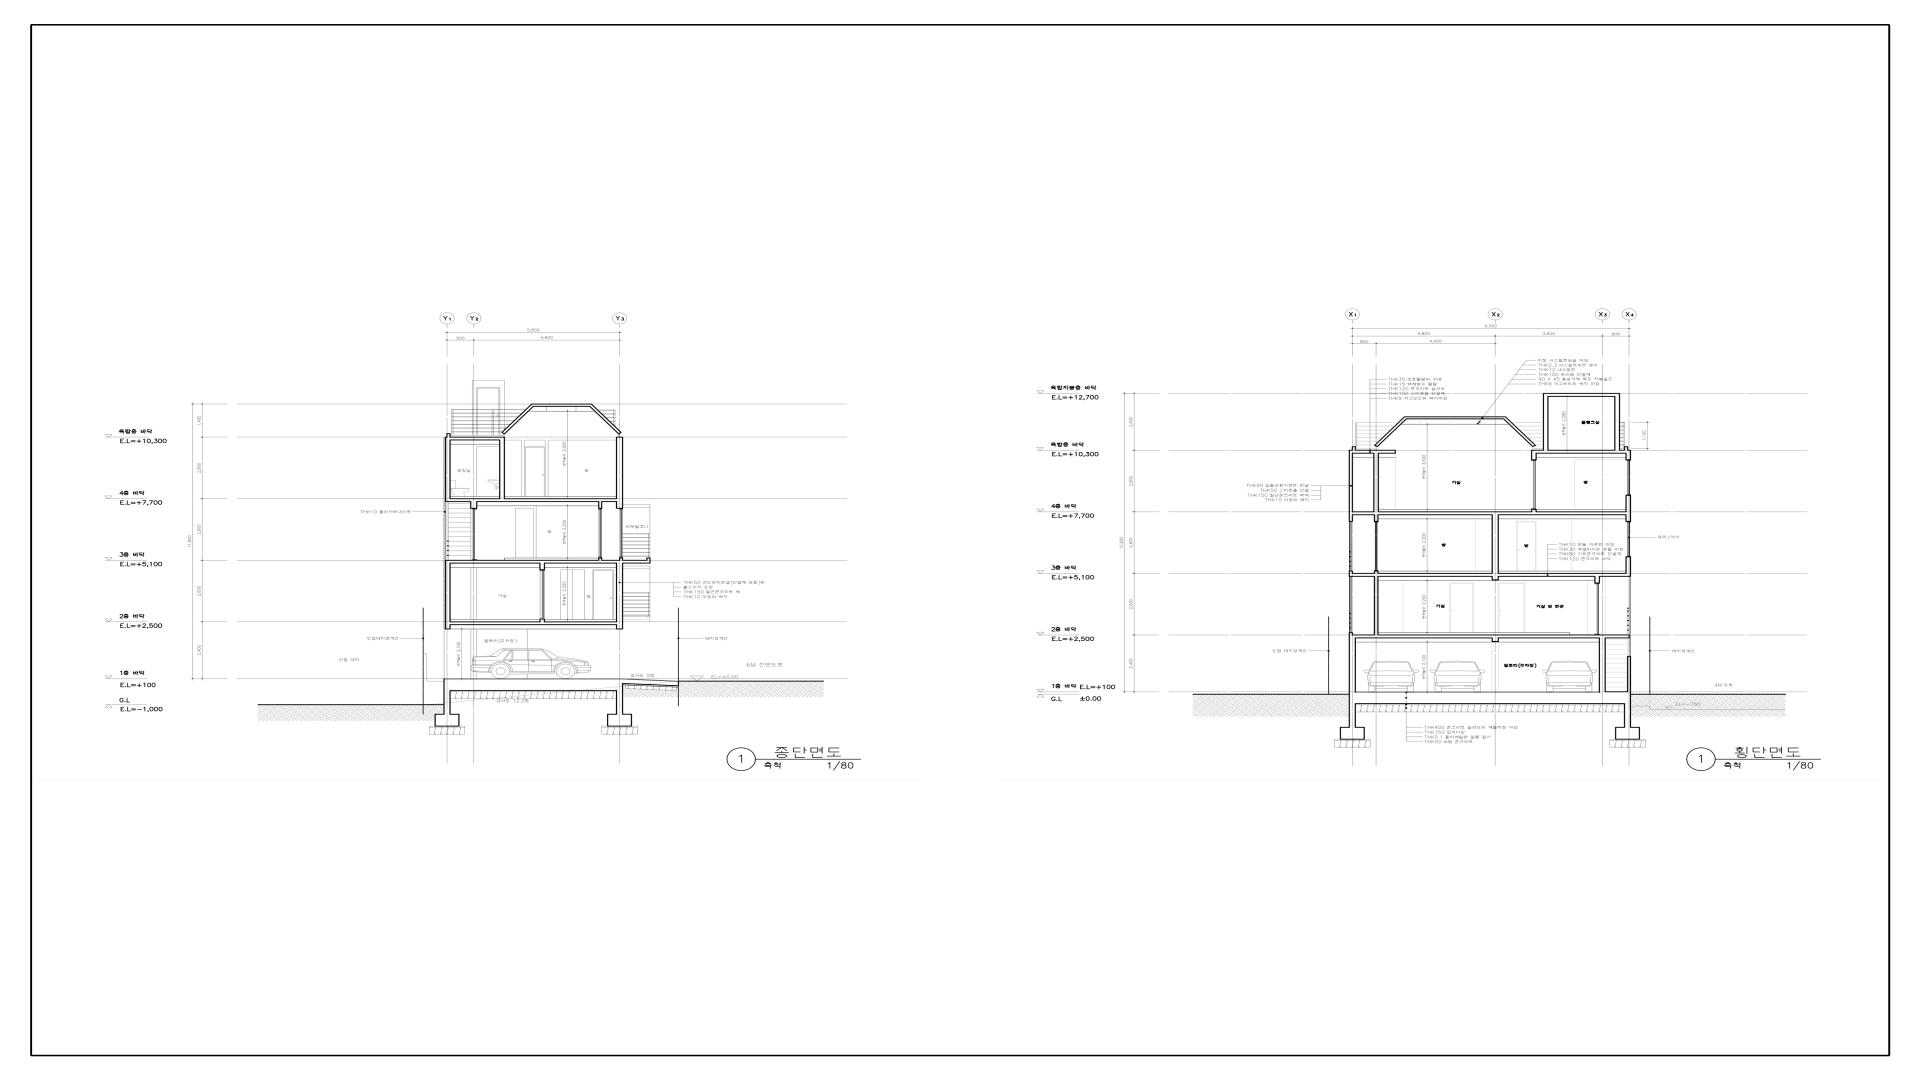door: (477, 388, 498, 435), (525, 447, 545, 496), (593, 571, 613, 620), (1594, 583, 1600, 634), (539, 570, 545, 620), (1531, 460, 1536, 509), (472, 509, 475, 560)
wall: (1349, 691, 1631, 704), (443, 679, 679, 691), (1349, 572, 1631, 576), (1349, 634, 1630, 638), (1349, 512, 1626, 516), (589, 404, 622, 435), (501, 404, 534, 435), (1503, 417, 1536, 447), (1374, 417, 1407, 447), (444, 498, 616, 502), (451, 621, 616, 625), (616, 436, 624, 509), (446, 560, 650, 563), (616, 563, 624, 629), (1491, 516, 1499, 572), (1531, 450, 1631, 454), (1373, 454, 1379, 512), (1349, 638, 1356, 692), (446, 563, 451, 629), (1600, 638, 1606, 691), (1614, 397, 1621, 450), (1340, 727, 1365, 740), (1615, 727, 1640, 740), (435, 713, 460, 727), (607, 713, 632, 727), (446, 436, 451, 498), (1543, 393, 1621, 397), (500, 440, 505, 498), (1543, 397, 1548, 450), (1407, 417, 1503, 419), (1349, 454, 1353, 512), (1374, 576, 1378, 634), (534, 404, 589, 407), (451, 436, 505, 440), (1349, 450, 1396, 454), (443, 691, 451, 713), (616, 691, 624, 713), (1625, 704, 1631, 727), (1349, 704, 1356, 727), (1626, 495, 1631, 522), (1627, 655, 1631, 691), (1626, 556, 1631, 572), (471, 502, 477, 509), (539, 563, 545, 570), (1626, 454, 1631, 460), (1531, 454, 1536, 460), (1594, 576, 1600, 583), (1491, 638, 1499, 642), (1491, 576, 1499, 580), (1349, 516, 1353, 522), (599, 502, 603, 509), (1374, 516, 1378, 522), (447, 433, 451, 436), (1625, 446, 1629, 450), (1352, 446, 1356, 450), (618, 558, 624, 560), (646, 558, 651, 560), (1531, 509, 1536, 512), (599, 558, 603, 560), (1349, 632, 1353, 634), (539, 620, 545, 621), (1349, 571, 1353, 572), (1374, 571, 1378, 572), (618, 434, 620, 436), (504, 434, 505, 436), (1532, 447, 1534, 450), (1377, 447, 1378, 450)
window: (1349, 576, 1353, 632), (599, 509, 603, 558), (1349, 522, 1353, 571), (1374, 522, 1378, 571), (1627, 522, 1631, 556), (1627, 460, 1631, 495), (620, 509, 622, 558)
